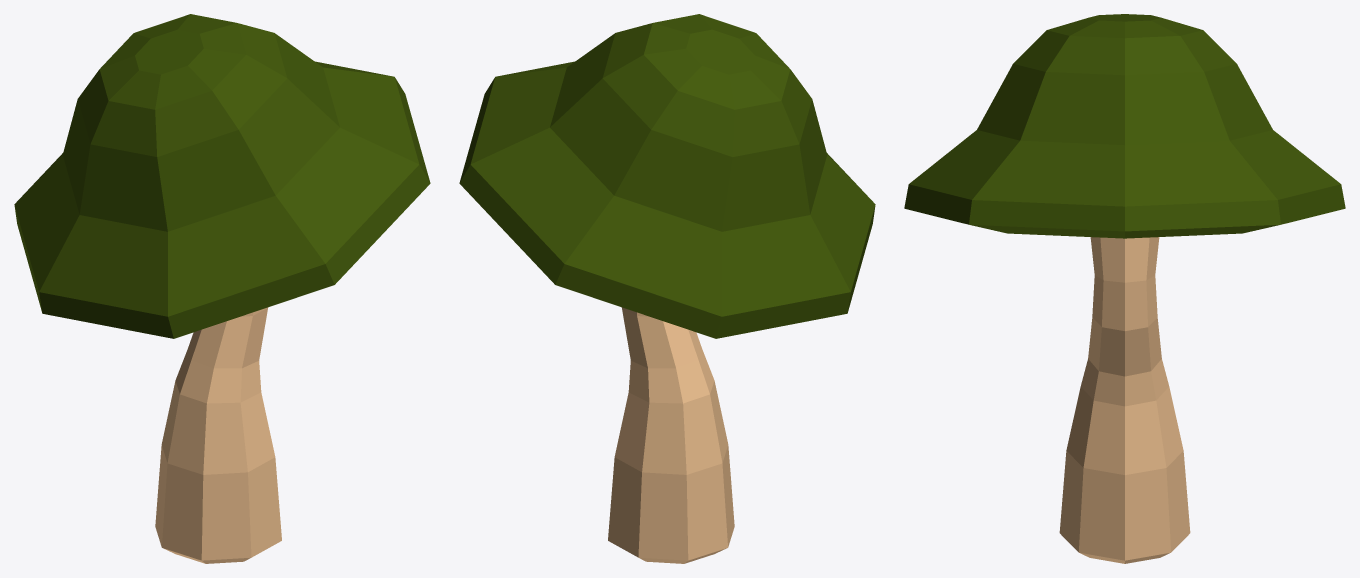
Rendered from Mushroom 2.fbx.
3 renders of one model, left to right at view 1: azimuth 30°, elevation 25°; view 2: azimuth 150°, elevation 25°; view 3: azimuth 270°, elevation 25°, orthographic.
Parts seen in each view (by area): view 1: Mushroom 1; view 2: Mushroom 1; view 3: Mushroom 1.
Boxes of the visible parts, box(x1,y1,x2,y2) form: Mushroom 1: box(14, 14, 430, 563); Mushroom 1: box(459, 14, 875, 563); Mushroom 1: box(904, 14, 1345, 563).
Size of the model in its own units: 14.15 by 19.05 by 14.83.
